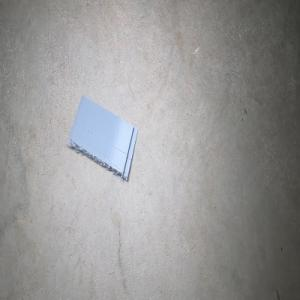PlasticPart: (67, 94, 138, 181)
